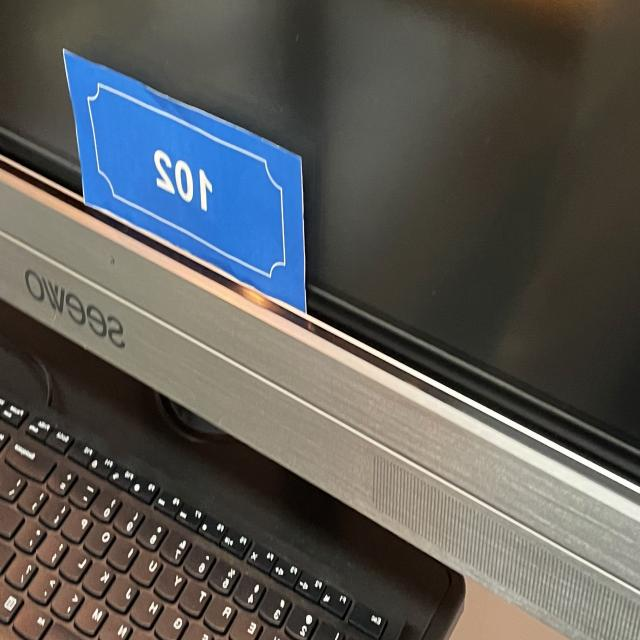Card: (52, 51, 330, 327)
